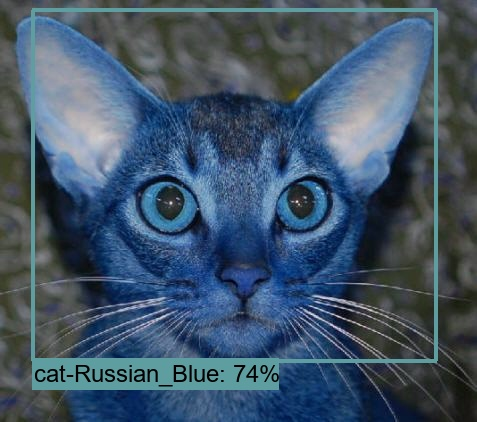cat-Abyssinian: (16, 16, 431, 357)
